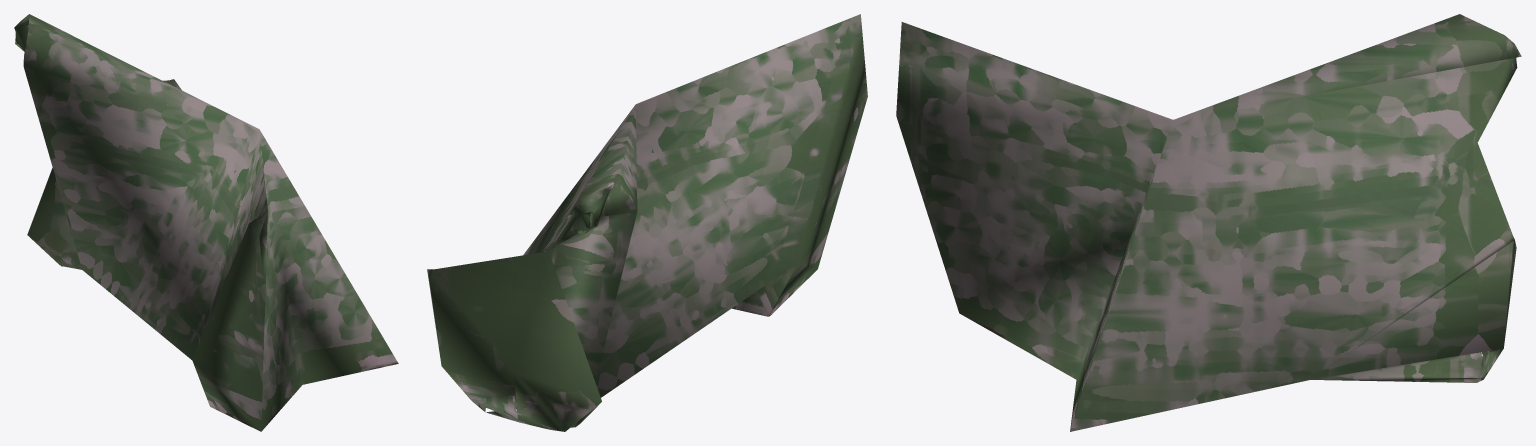
Rendered from shoulder-b-1-lod2.glb.
3 views of the same model, side by side, from view 1: azimuth 30°, elevation 25°; view 2: azimuth 150°, elevation 25°; view 3: azimuth 270°, elevation 25° (orthographic). The views are drawn at different scales.
Parts seen in each view (by area): view 1: Body; view 2: Body; view 3: Body.
Part boxes in pixels (box(x1,y1,x2,y2)): Body: box(14, 14, 398, 431); Body: box(427, 14, 867, 431); Body: box(896, 14, 1521, 431).
Size of the model in its own units: 0.2737 by 0.3234 by 0.6.
1 material, 1 textured.
